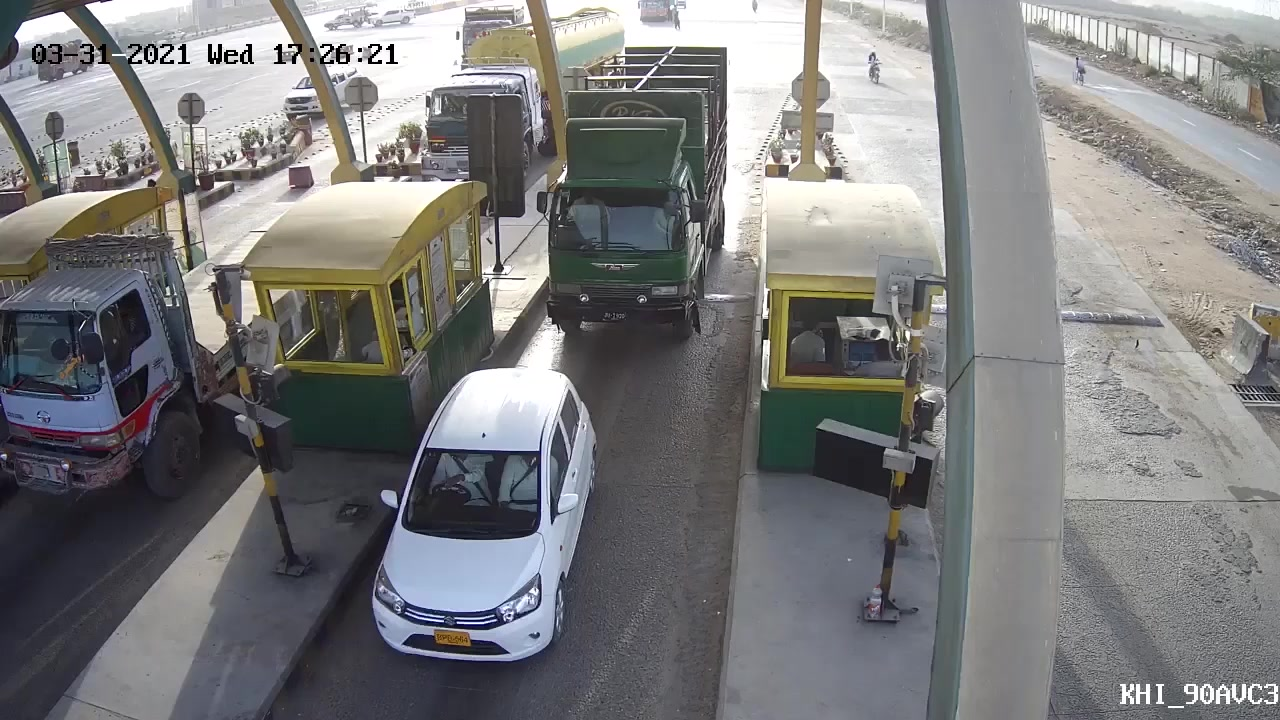F1: (324, 353, 629, 703)
F5: (541, 40, 745, 340)
